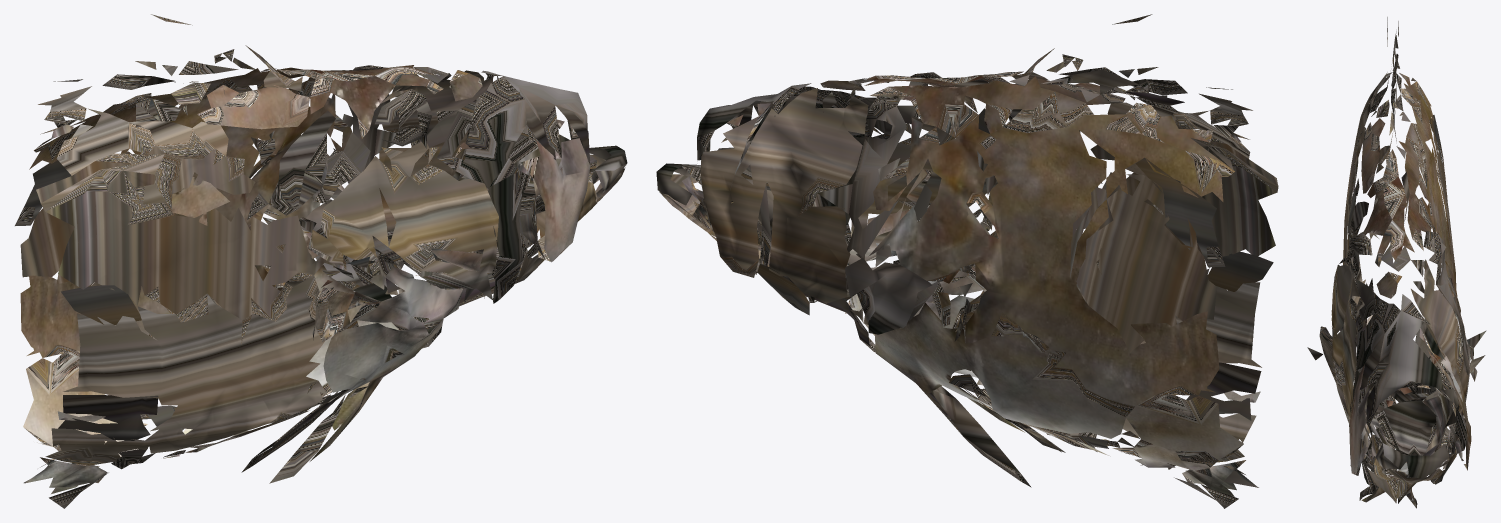
Rendered from johndory_a.glb.
3 renders of one model, left to right at view 1: azimuth 30°, elevation 25°; view 2: azimuth 150°, elevation 25°; view 3: azimuth 270°, elevation 25°, orthographic. The views are drawn at different scales.
Visible parts, largest first — view 1: johndory_a; view 2: johndory_a; view 3: johndory_a.
Part boxes in pixels (<box>): johndory_a: <box>15,14,627,508</box>; johndory_a: <box>656,14,1278,508</box>; johndory_a: <box>1307,17,1486,508</box>.
Bounding box in the file's own units: 0.3501 × 0.2736 × 0.1002.
Materials: 1 (1 with a texture image).
